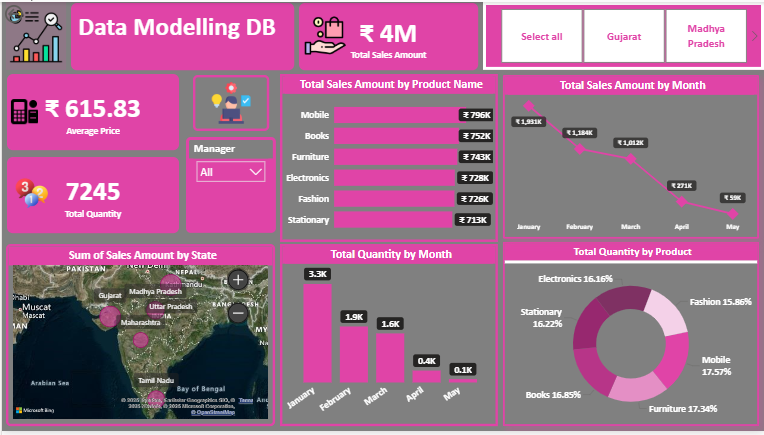

Layout of this report page (visuals, bound fields, positions):
{"tool":"powerbi","page":{"name":"Dashboard","canvas":[1280,720],"ordinal":0},"visuals":[{"type":"slicer","fields":{"Values":["Dim_State.State"]},"box":[808,0,472,114.2],"z":0},{"type":"card","fields":{"Values":["Sum(Sheet1.Sales Amount)"]},"box":[498.9,1.7,300.7,112.5],"z":1000},{"type":"image","box":[6.7,0,100.8,114.2],"z":2000},{"type":"textbox","box":[115.9,1.7,374.6,112.5],"z":3000},{"type":"image","box":[490.5,16.8,104.1,79],"z":4000},{"type":"card","fields":{"Values":["Dim_Payment.Average Price"]},"box":[8.4,120.9,288.9,127.7],"z":5000},{"type":"image","box":[8.4,151.2,62.2,65.5],"z":6000},{"type":"card","fields":{"Values":["Dim_Payment.Total Quantity"]},"box":[8.4,260.4,288.9,127.7],"z":7000},{"type":"image","box":[0,292.3,124.3,63.8],"z":8000},{"type":"clusteredBarChart","title":"Total Sales Amount by Product Name","fields":{"Category":["Dim_Product.Product Name"],"Y":["Sum(Sheet1.Sales Amount)"]},"box":[467,120.9,366.2,282.2],"z":9000},{"type":"donutChart","title":"Total Quantity by Product","fields":{"Y":["Sum(Sheet1.Order Qty)"],"Category":["Dim_Product.Product Name"]},"box":[841.6,403.1,430,309.1],"z":10000},{"type":"lineChart","title":"Total Sales Amount by Month","fields":{"Category":["Sheet1.Month"],"Y":["Sum(Sheet1.Sales Amount)"]},"box":[841.6,122.6,430,275.5],"z":11000},{"type":"clusteredColumnChart","title":"Total Quantity by Month","fields":{"Category":["Sheet1.Month"],"Y":["Sum(Sheet1.Order Qty)"]},"box":[467,406.5,366.2,305.7],"z":12000},{"type":"slicer","title":"Manager","fields":{"Values":["Sheet1.Manager"]},"box":[309.1,226.8,151.2,161.3],"z":13000},{"type":"image","box":[320.8,122.6,127.7,94.1],"z":14000},{"type":"actionButton","box":[0,0,100,40],"z":15000},{"type":"map","fields":{"Category":["Dim_State.State"],"Size":["Sum(Sheet1.Sales Amount)"]},"box":[6.7,406.5,451.9,305.7],"z":16000}]}

Visuals, with their boxes in screenshot pixels (x1, y1, x2, y2), scaled from the page's 1280x720 canvas onto the 764x435 screenshot:
slicer - Dim_State.State: bbox=[482, 0, 763, 69]
card - Sum(Sheet1.Sales Amount): bbox=[298, 1, 477, 69]
image: bbox=[4, 0, 64, 69]
textbox: bbox=[69, 1, 293, 69]
image: bbox=[293, 10, 355, 58]
card - Dim_Payment.Average Price: bbox=[5, 73, 177, 150]
image: bbox=[5, 91, 42, 131]
card - Dim_Payment.Total Quantity: bbox=[5, 157, 177, 234]
image: bbox=[0, 177, 74, 215]
"Total Sales Amount by Product Name" clusteredBarChart: bbox=[279, 73, 497, 244]
"Total Quantity by Product" donutChart: bbox=[502, 244, 759, 430]
"Total Sales Amount by Month" lineChart: bbox=[502, 74, 759, 241]
"Total Quantity by Month" clusteredColumnChart: bbox=[279, 246, 497, 430]
"Manager" slicer: bbox=[184, 137, 275, 234]
image: bbox=[191, 74, 268, 131]
actionButton: bbox=[0, 0, 60, 24]
map - Dim_State.State x Sum(Sheet1.Sales Amount): bbox=[4, 246, 274, 430]
